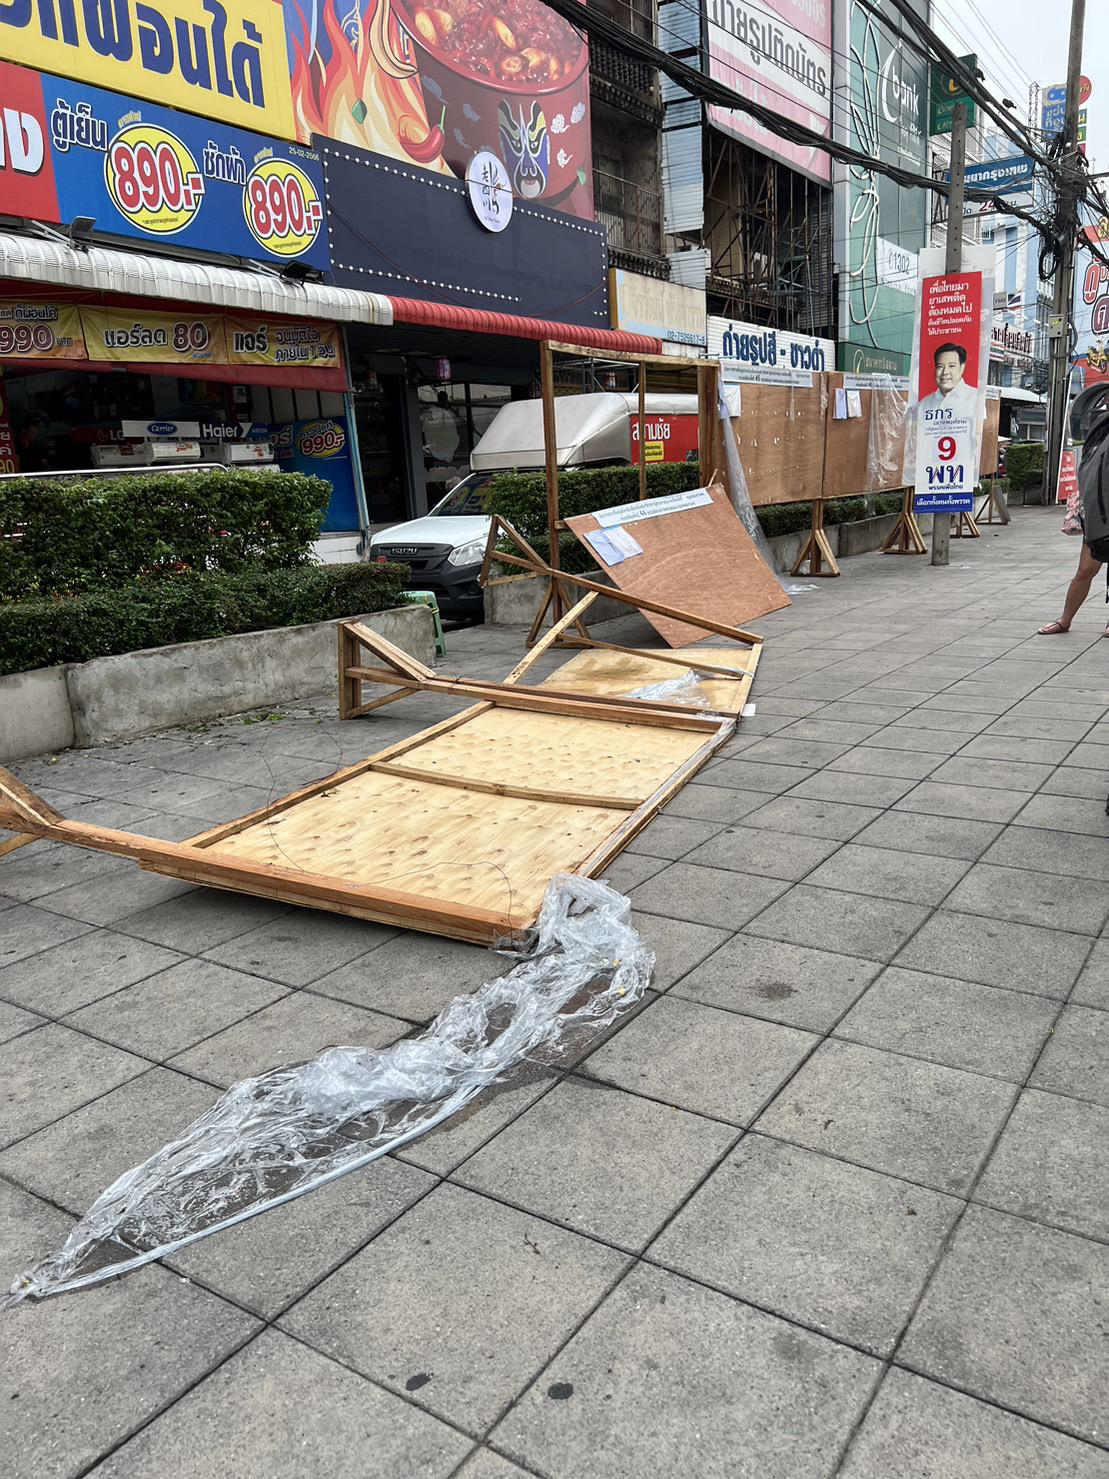Banner: (912, 273, 984, 512)
